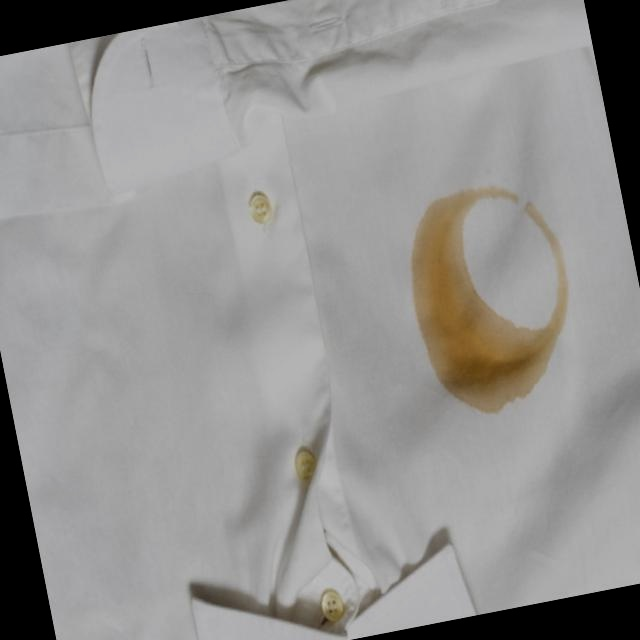coffee: (415, 314, 555, 414), (405, 192, 476, 312)
